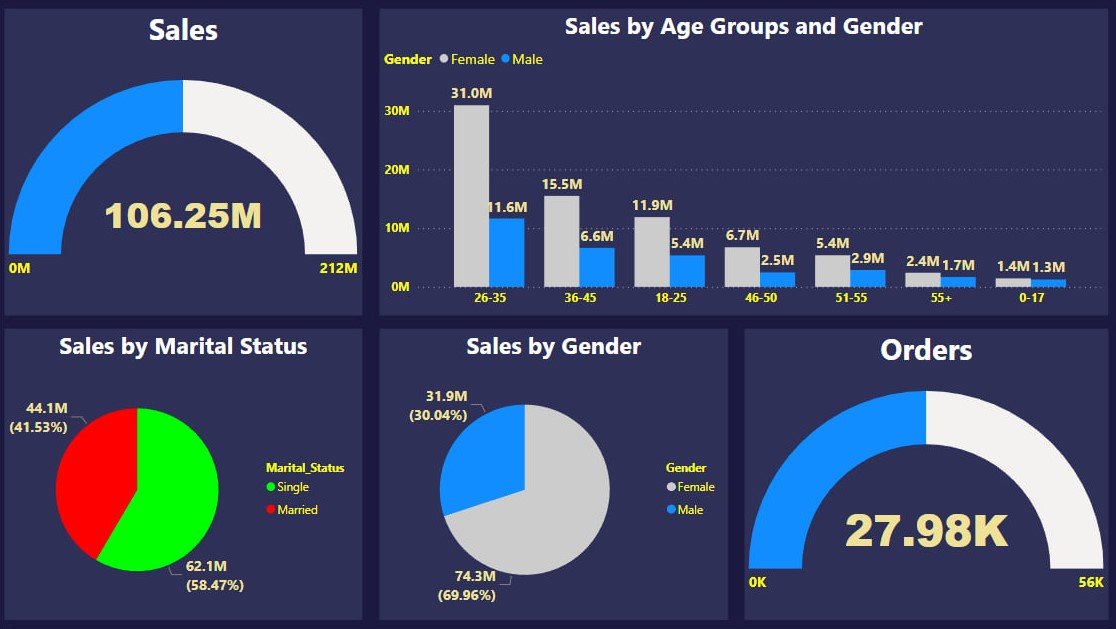

Layout of this report page (visuals, bound fields, positions):
{"tool":"powerbi","page":{"name":"Page 1","canvas":[1280,720],"ordinal":0},"visuals":[{"type":"pieChart","title":"Sales by Gender","fields":{"Category":["analysed_diwali_sales.Gender"],"Y":["Sum(analysed_diwali_sales.Amount)"]},"box":[437.1,375.7,398.6,332.9],"z":0},{"type":"pieChart","title":"Sales by Marital Status","fields":{"Y":["Sum(analysed_diwali_sales.Amount)"],"Category":["analysed_diwali_sales.Marital_Status"]},"box":[8.6,375.7,408.6,332.9],"z":2000},{"type":"clusteredColumnChart","title":"Sales by Age Groups and Gender","fields":{"Category":["analysed_diwali_sales.Age Group"],"Y":["Sum(analysed_diwali_sales.Amount)"],"Series":["analysed_diwali_sales.Gender"]},"box":[437.1,10,832.9,350],"z":3000},{"type":"gauge","title":"Sales","fields":{"Y":["Sum(analysed_diwali_sales.Amount)"]},"box":[8.6,10,408.6,350],"z":3001},{"type":"gauge","title":"Orders","fields":{"Y":["Sum(analysed_diwali_sales.Orders)"]},"box":[854.3,375.7,415.7,332.9],"z":3002}]}

Visuals, with their boxes in screenshot pixels (x1, y1, x2, y2), scaled from the page's 1280x720 canvas onto the 1116x629 screenshot:
"Sales by Gender" pieChart: l=381, t=328, r=729, b=619
"Sales by Marital Status" pieChart: l=7, t=328, r=364, b=619
"Sales by Age Groups and Gender" clusteredColumnChart: l=381, t=9, r=1107, b=314
"Sales" gauge: l=7, t=9, r=364, b=314
"Orders" gauge: l=745, t=328, r=1107, b=619
